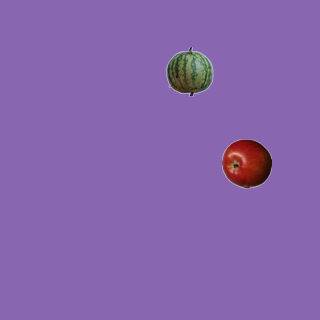Apple Braeburn: (221, 138, 271, 188)
Watermelon: (164, 46, 214, 96)
